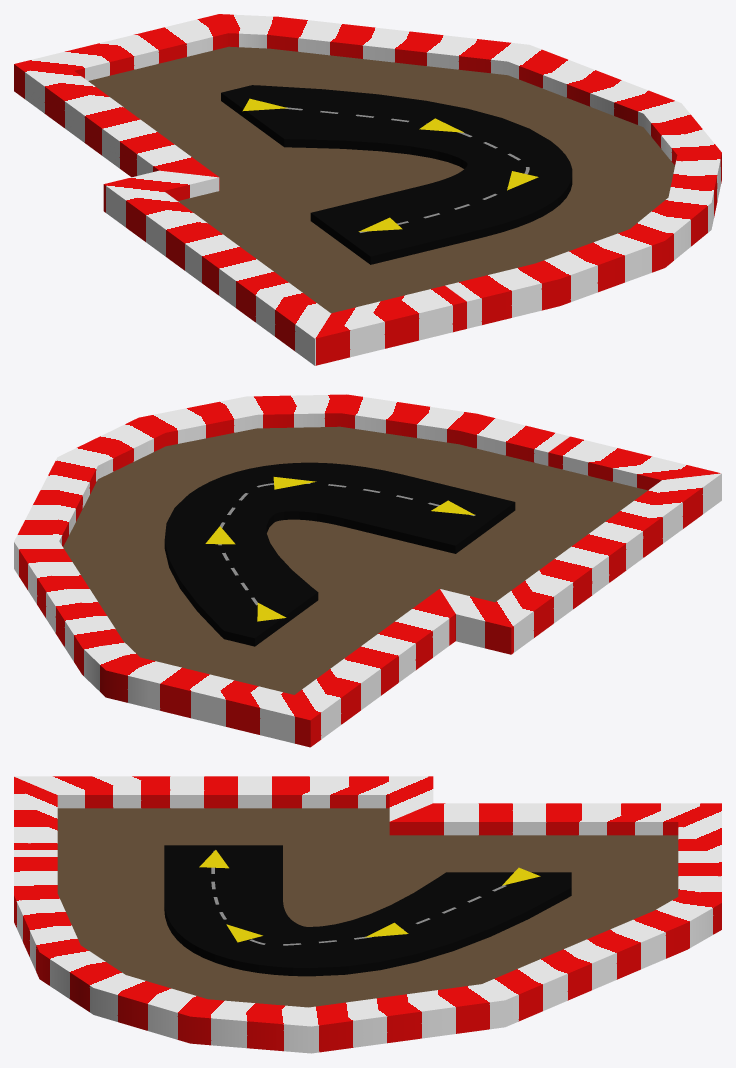
File: dal.FBX
3 renders of one model, top to bottom at view 1: azimuth 30°, elevation 25°; view 2: azimuth 150°, elevation 25°; view 3: azimuth 270°, elevation 25°, orthographic.
Parts seen in each view (by area): view 1: dal_coll, dal_floor, dal; view 2: dal_coll, dal_floor, dal; view 3: dal_coll, dal_floor, dal.
Boxes of the visible parts, <box> form: dal_coll: <box>14,14,721,365</box>; dal_floor: <box>88,46,674,313</box>; dal: <box>221,85,572,264</box>; dal_coll: <box>14,394,721,747</box>; dal_floor: <box>63,426,647,694</box>; dal: <box>164,462,515,646</box>; dal_coll: <box>14,776,721,1053</box>; dal_floor: <box>57,808,678,1007</box>; dal: <box>164,845,571,976</box>.
Bounding box in the file's own units: 651 × 32.77 × 778.
